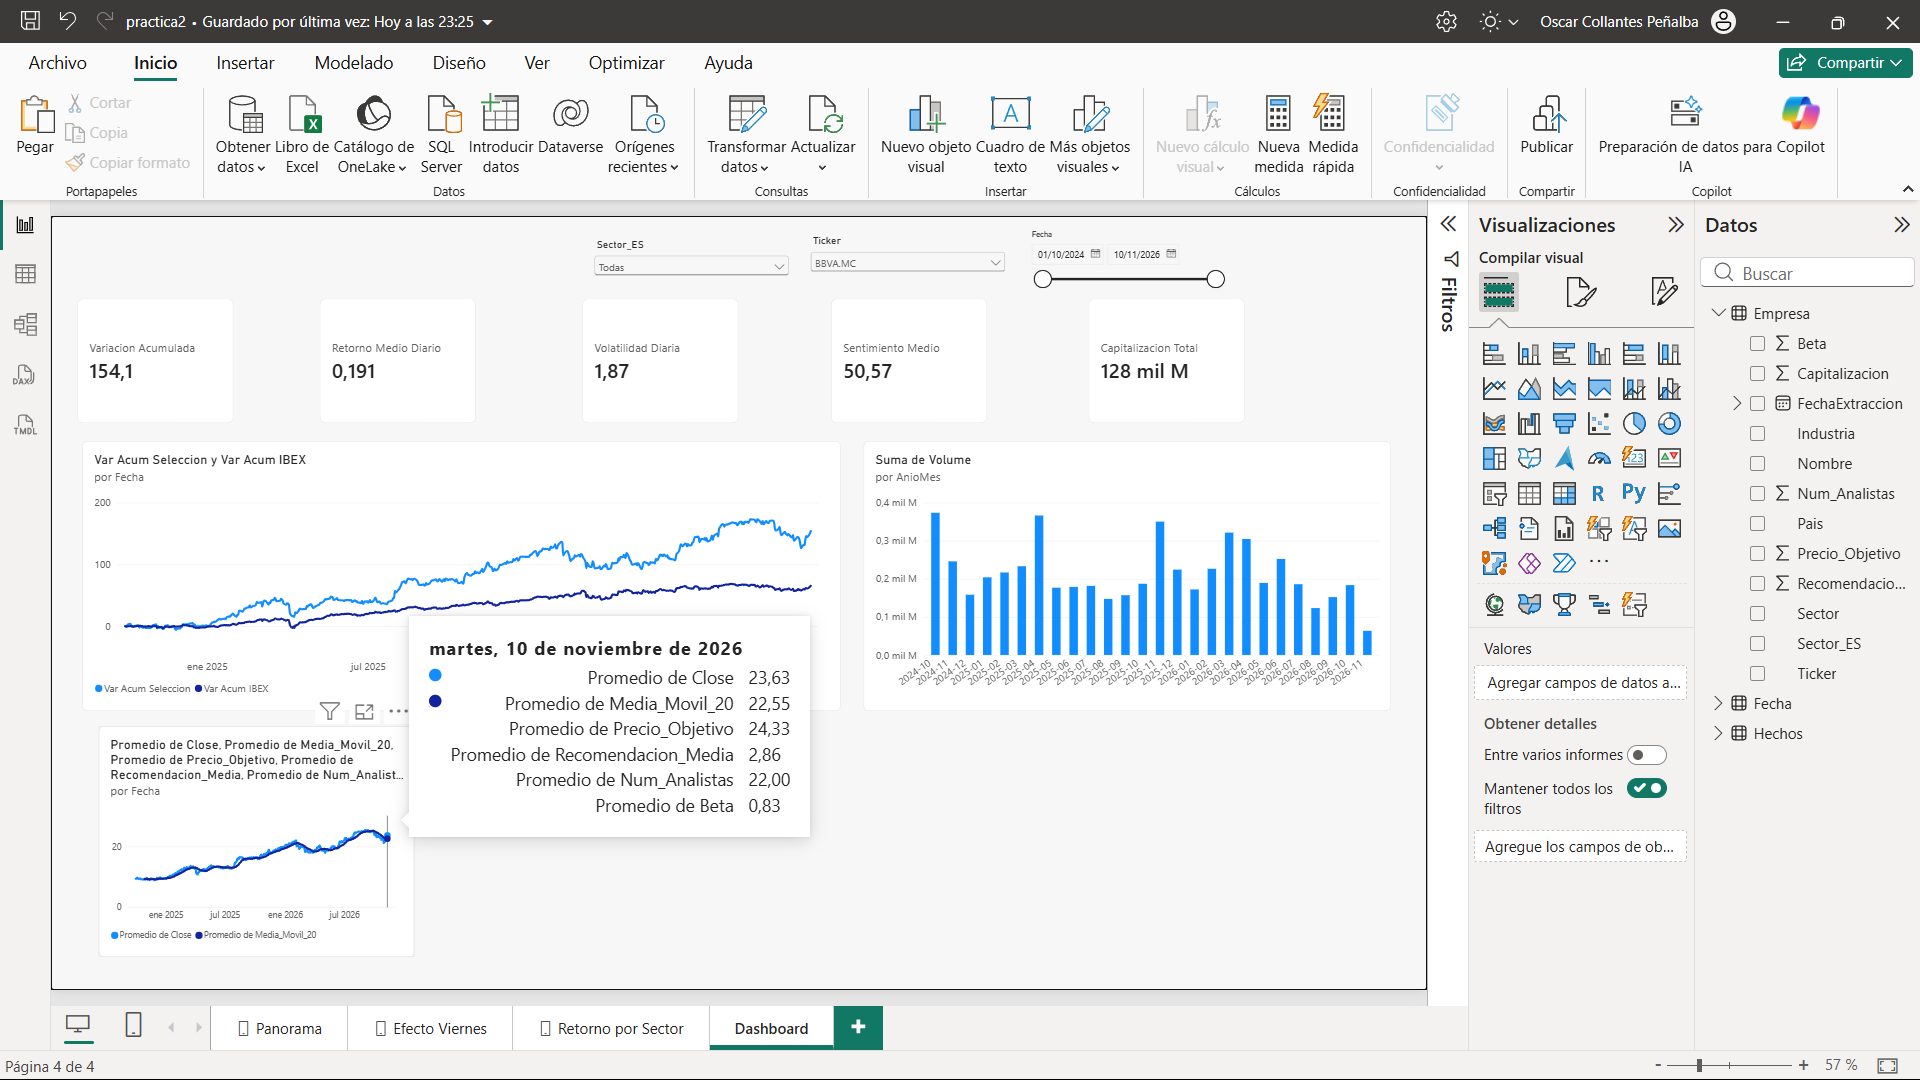

What the dashboard file says about the page in this screenshot:
{"tool":"powerbi","page":{"name":"Dashboard","canvas":[1920,1080],"ordinal":3},"visuals":[{"type":"slicer","fields":{"Values":["Empresa.Sector_ES"]},"box":[753.5,31.4,280.8,68],"z":0},{"type":"slicer","fields":{"Values":["Empresa.Ticker"]},"box":[1055.2,26.2,280.8,80.2],"z":1000},{"type":"slicer","fields":{"Values":["Fecha.Fecha"]},"box":[1360.5,19.2,280.8,95.9],"z":2000},{"type":"cardVisual","fields":{"Data":["Hechos.Variacion Acumulada"]},"box":[36.6,115.1,218,174.4],"z":3000},{"type":"cardVisual","fields":{"Data":["Hechos.Retorno Medio Diario"]},"box":[375,115.1,218,174.4],"z":4000},{"type":"cardVisual","fields":{"Data":["Hechos.Volatilidad Diaria"]},"box":[741.3,115.1,218,174.4],"z":5000},{"type":"cardVisual","fields":{"Data":["Hechos.Sentimiento Medio"]},"box":[1088.4,115.1,218,174.4],"z":6000},{"type":"cardVisual","fields":{"Data":["Hechos.Capitalizacion Total"]},"box":[1447.7,115.1,218,174.4],"z":7000},{"type":"lineChart","fields":{"Category":["Fecha.Fecha"],"Y":["Hechos.Var Acum Seleccion","Hechos.Var Acum IBEX"]},"box":[43.6,314,1058.7,376.7],"z":8000},{"type":"clusteredColumnChart","fields":{"Category":["Fecha.AnioMes"],"Y":["Sum(Hechos.Volume)"]},"box":[1133.7,314,736,376.7],"z":9000},{"type":"lineChart","fields":{"Category":["Fecha.Fecha"],"Y":["Avg(Hechos.Close)","Avg(Hechos.Media_Movil_20)"]},"box":[66.3,711.6,395.9,322.7],"z":10000},{"type":"scatterChart","fields":{"Category":["Fecha.Fecha"],"X":["Hechos.Sentimiento Medio"],"Y":["Hechos.Retorno Medio Diario"]},"box":[462.2,711.6,444.8,322.7],"z":11000},{"type":"clusteredColumnChart","fields":{"Category":["Fecha.AnioMes"],"Y":["Hechos.Retorno Medio Diario"]},"box":[907,711.6,610.5,322.7],"z":12000},{"type":"donutChart","fields":{"Category":["Fecha.Trimestre"],"Y":["Sum(Hechos.Dividends)"]},"box":[1517.4,711.6,385.5,322.7],"z":13000},{"type":"cardVisual","fields":{"Data":["Hechos.Titulo Dashboard"]},"box":[66.3,19.2,556.4,75],"z":13001}]}

Visuals, with their boxes on the page's 1920x1080 design canvas (x1, y1, x2, y2). These are canvas units, not pixel positions in the 1920x1080 screenshot, which may show the page scaled, cropped or inside an application window:
slicer - Empresa.Sector_ES: box=[754, 31, 1034, 99]
slicer - Empresa.Ticker: box=[1055, 26, 1336, 106]
slicer - Fecha.Fecha: box=[1360, 19, 1641, 115]
cardVisual - Hechos.Variacion Acumulada: box=[37, 115, 255, 290]
cardVisual - Hechos.Retorno Medio Diario: box=[375, 115, 593, 290]
cardVisual - Hechos.Volatilidad Diaria: box=[741, 115, 959, 290]
cardVisual - Hechos.Sentimiento Medio: box=[1088, 115, 1306, 290]
cardVisual - Hechos.Capitalizacion Total: box=[1448, 115, 1666, 290]
lineChart - Fecha.Fecha x Hechos.Var Acum Seleccion: box=[44, 314, 1102, 691]
clusteredColumnChart - Fecha.AnioMes x Sum(Hechos.Volume): box=[1134, 314, 1870, 691]
lineChart - Fecha.Fecha x Avg(Hechos.Close): box=[66, 712, 462, 1034]
scatterChart - Fecha.Fecha x Hechos.Sentimiento Medio: box=[462, 712, 907, 1034]
clusteredColumnChart - Fecha.AnioMes x Hechos.Retorno Medio Diario: box=[907, 712, 1518, 1034]
donutChart - Fecha.Trimestre x Sum(Hechos.Dividends): box=[1517, 712, 1903, 1034]
cardVisual - Hechos.Titulo Dashboard: box=[66, 19, 623, 94]
